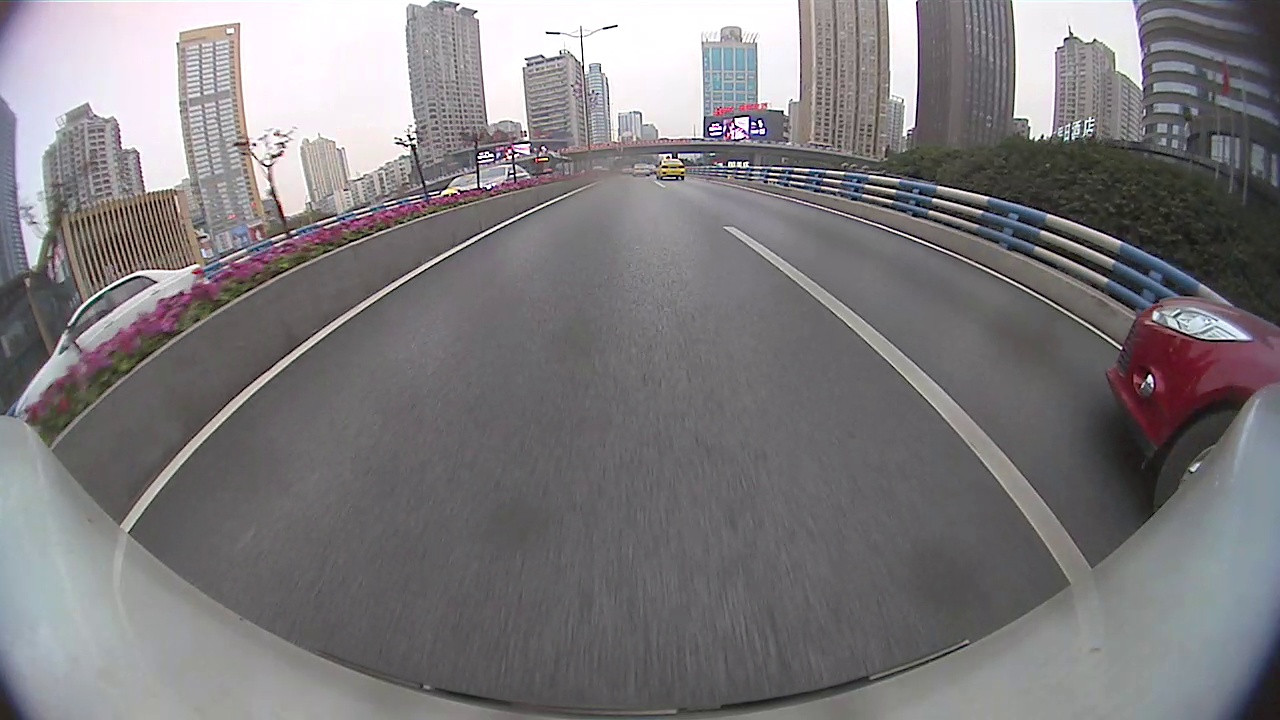bus: (527, 148, 576, 181)
car: (1102, 288, 1277, 520), (1, 258, 216, 429), (436, 159, 530, 203), (653, 153, 691, 185), (630, 160, 653, 178)
